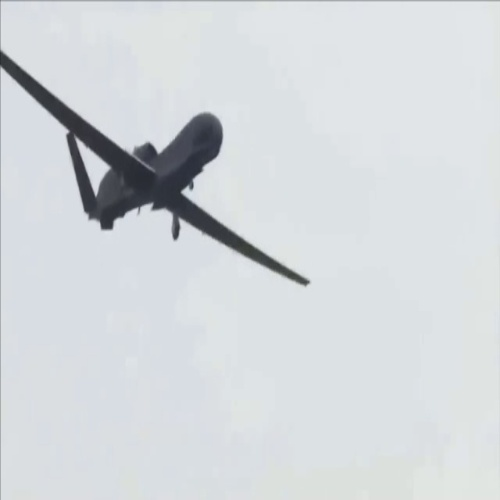uav: (1, 49, 310, 291)
